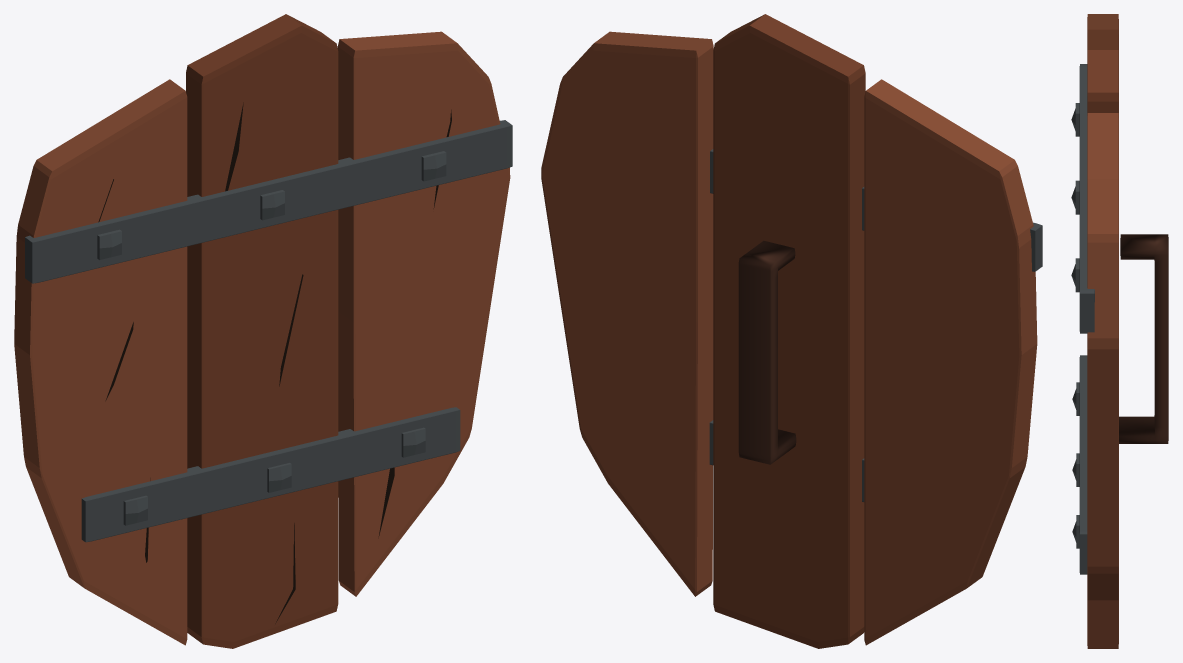
Rendered from shield_wood_poor_3.glb.
The picture shows the model from 3 angles, left to right: view 1: azimuth 30°, elevation 25°; view 2: azimuth 150°, elevation 25°; view 3: azimuth 270°, elevation 25°; orthographic projection. The views are drawn at different scales.
Visible parts, largest first — view 1: Middle, Left, Right, Iron_1, Iron_1.001; view 2: Middle, Left, Right, Cube.001, Iron_1; view 3: Right, Cube.001, Iron_1, Middle, Iron_1.001, Left, Vis1, Vis1.001, Vis1.002, Vis1.003, Vis1.004, Vis1.005.
Boxes of the visible parts, x1,y1,x2,y2 form: Middle: (186, 14, 338, 648); Left: (14, 79, 187, 645); Right: (337, 31, 510, 596); Iron_1: (25, 120, 512, 283); Iron_1.001: (81, 407, 460, 542); Middle: (713, 14, 865, 648); Left: (864, 79, 1037, 645); Right: (541, 31, 713, 596); Cube.001: (738, 240, 796, 464); Iron_1: (710, 149, 1042, 271); Right: (1087, 113, 1118, 648); Cube.001: (1119, 234, 1168, 443); Iron_1: (1079, 64, 1094, 333); Middle: (1087, 29, 1118, 648); Iron_1.001: (1079, 355, 1087, 574); Left: (1087, 14, 1118, 33); Vis1: (1071, 258, 1079, 292); Vis1.001: (1071, 180, 1079, 214); Vis1.002: (1071, 103, 1079, 136); Vis1.003: (1072, 515, 1079, 548); Vis1.004: (1072, 453, 1079, 486); Vis1.005: (1072, 382, 1079, 415).
Size of the model in its own units: 0.3162 by 0.3805 by 0.0564.
